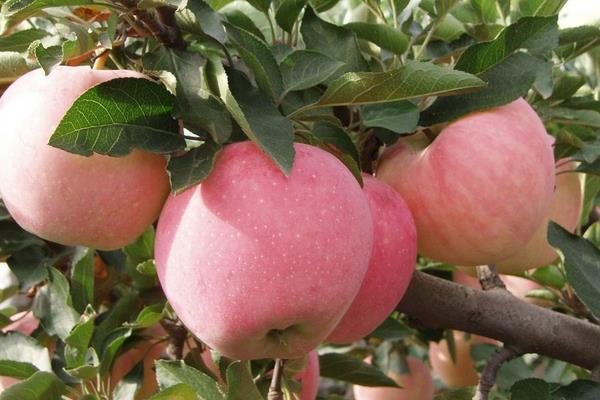apple: (154, 136, 374, 357), (1, 64, 183, 247), (375, 97, 555, 261), (326, 177, 417, 343)
